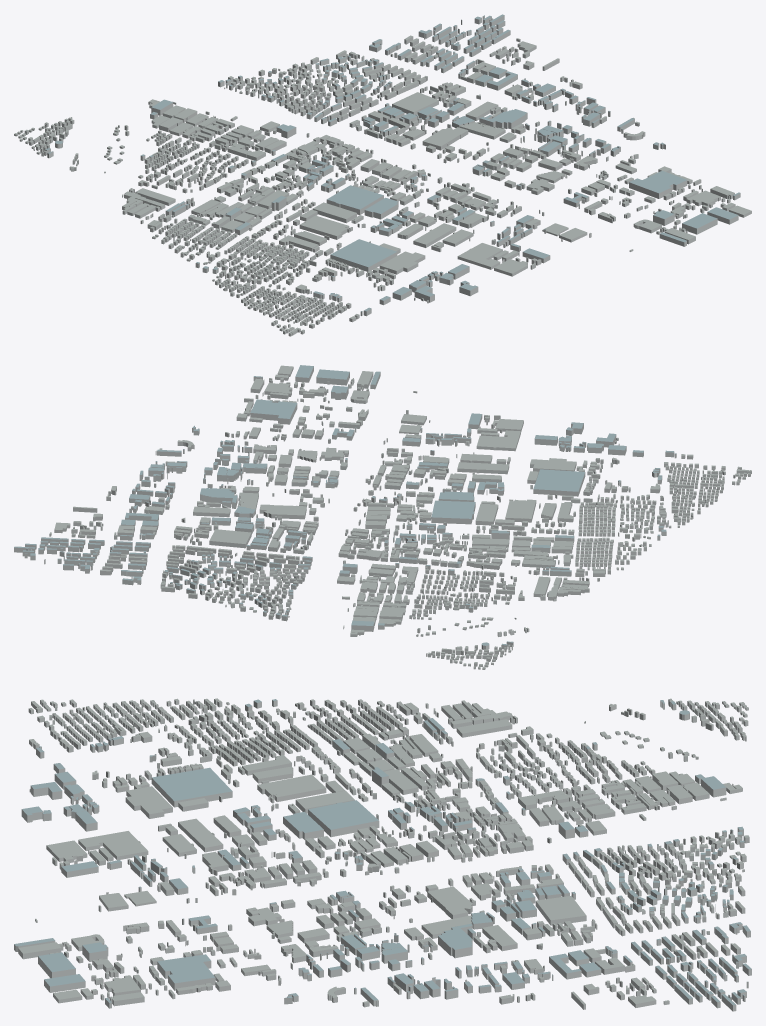
Rendered from far.glb.
3 views of the same model, one above another, from view 1: azimuth 30°, elevation 25°; view 2: azimuth 150°, elevation 25°; view 3: azimuth 270°, elevation 25° (orthographic). The views are drawn at different scales.
Bounding box in the file's own units: 2134 × 34.57 × 2156.
